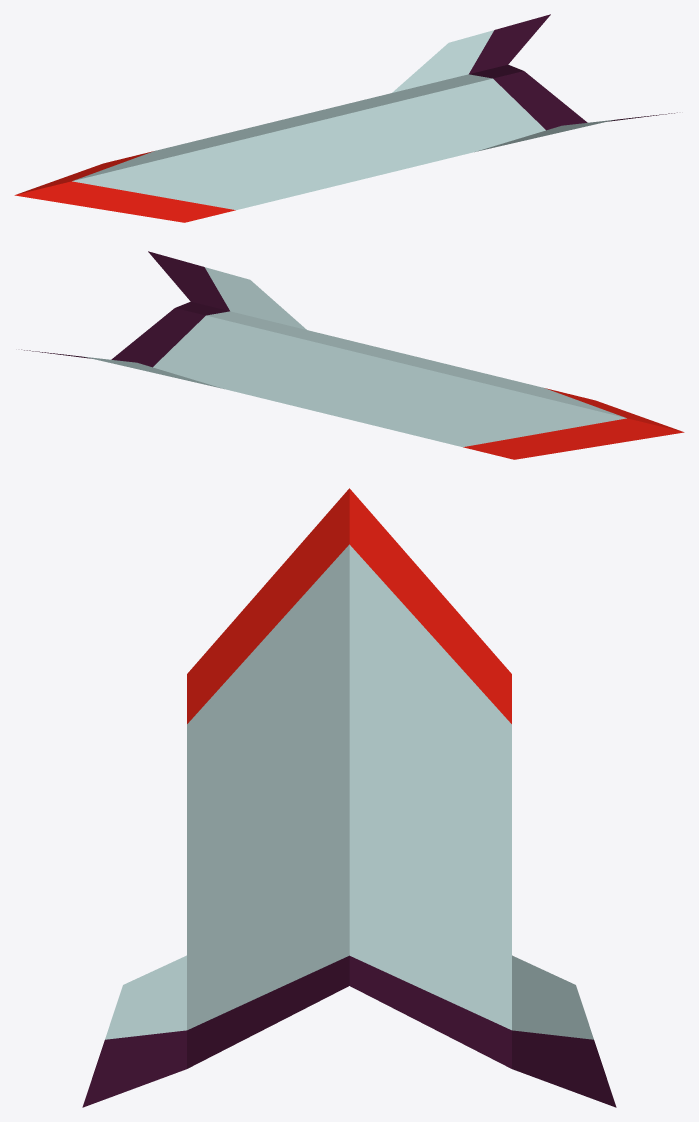
Rendered from rocket.fbx.
The picture shows the model from 3 angles, top to bottom: view 1: azimuth 30°, elevation 25°; view 2: azimuth 150°, elevation 25°; view 3: azimuth 270°, elevation 25°; orthographic projection. The views are drawn at different scales.
Parts seen in each view (by area): view 1: Rocket; view 2: Rocket; view 3: Rocket.
Part boxes in pixels (left/top/right/bottom): Rocket: left=14, top=14, right=677, bottom=222; Rocket: left=21, top=251, right=684, bottom=459; Rocket: left=82, top=488, right=616, bottom=1107.
Bounding box in the file's own units: 77.52 × 3.61 × 29.69.
Materials: 1 (1 with a texture image).
